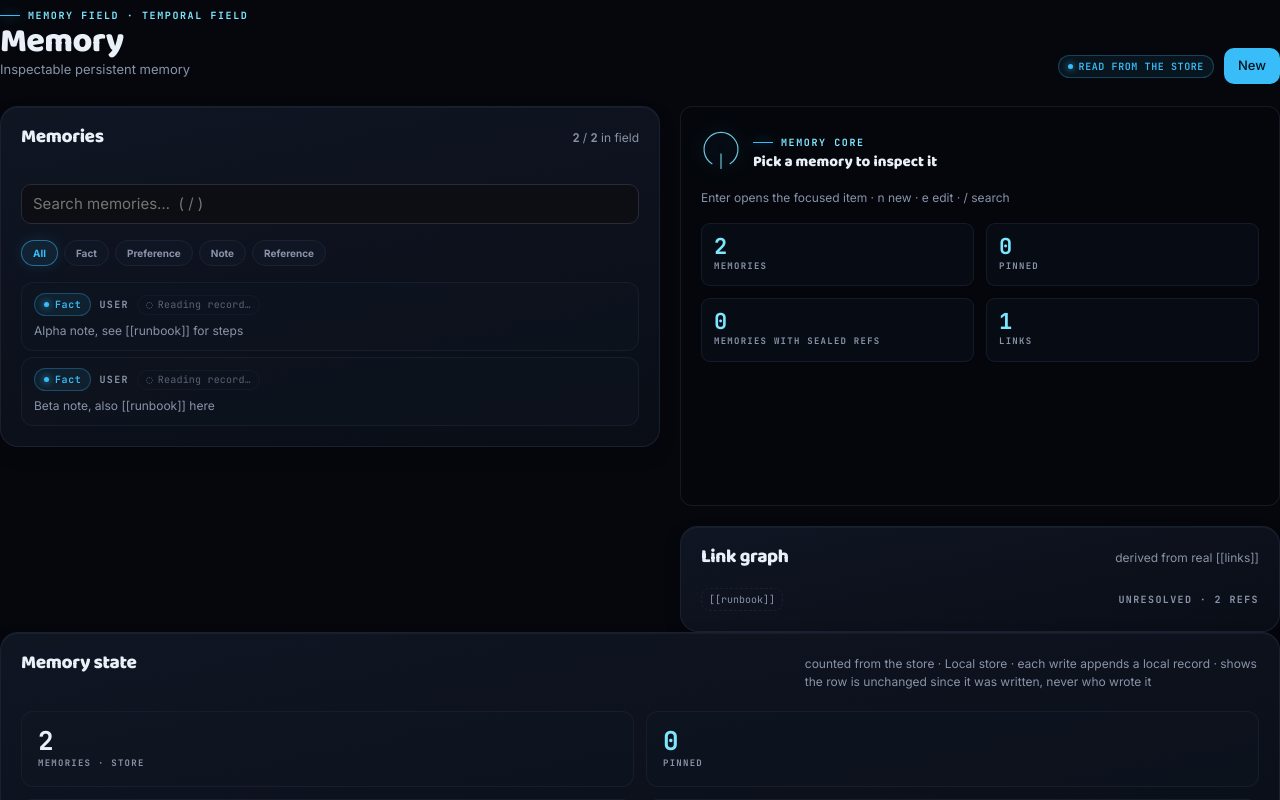
Test: Memory — a link that resolves to nothing is unresolved, not sealed › two memories that both mention [ [runbook]] do not resolve to each other
Click the text "Alpha note, see [ [runbook]] for steps" at (139, 331), box [34, 322, 243, 340]
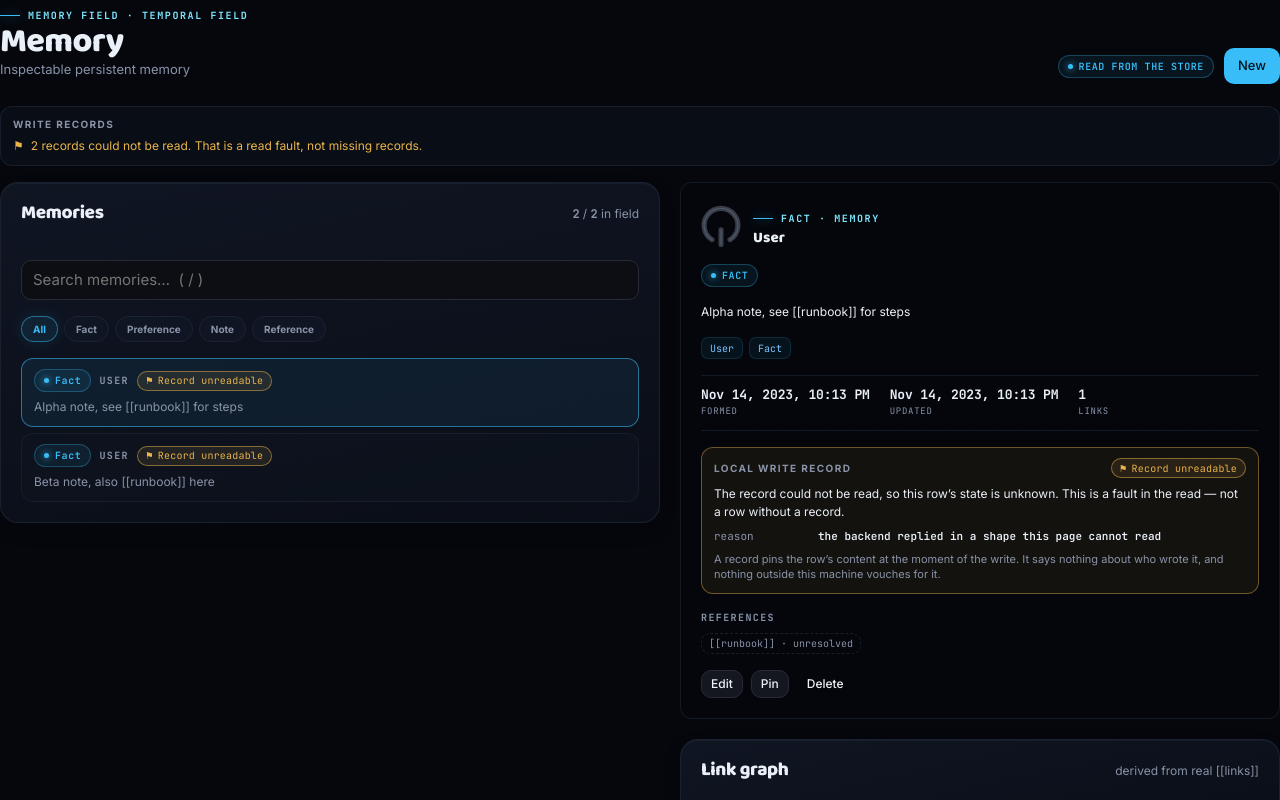
Expected: the element with class "mr-detail" does not show "sealed"
Expected: the button "Delete" is shown, [797, 670, 854, 698]
Expected: the text with class "mem-link--unresolved" reads "[ [runbook]] · unresolved", [701, 633, 861, 654]
